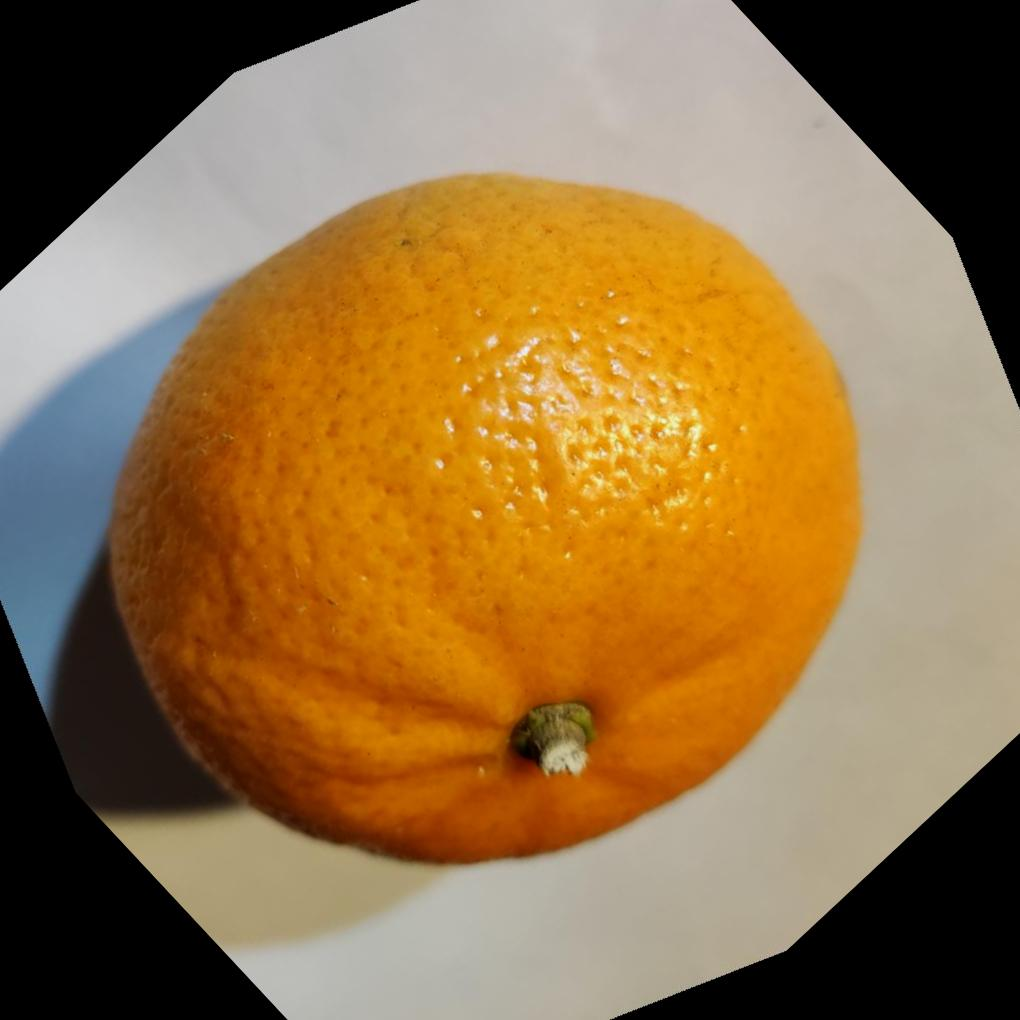FreshGuava: (104, 167, 867, 865)
